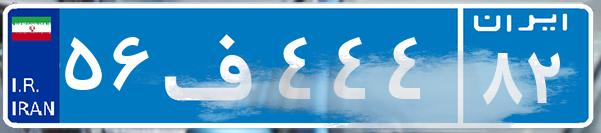2: (525, 38, 570, 115)
4: (385, 28, 445, 110), (273, 28, 330, 110), (330, 28, 385, 110)
5: (57, 26, 110, 107)
6: (110, 28, 158, 105)
8: (475, 38, 525, 113)
ف: (158, 15, 273, 115)
